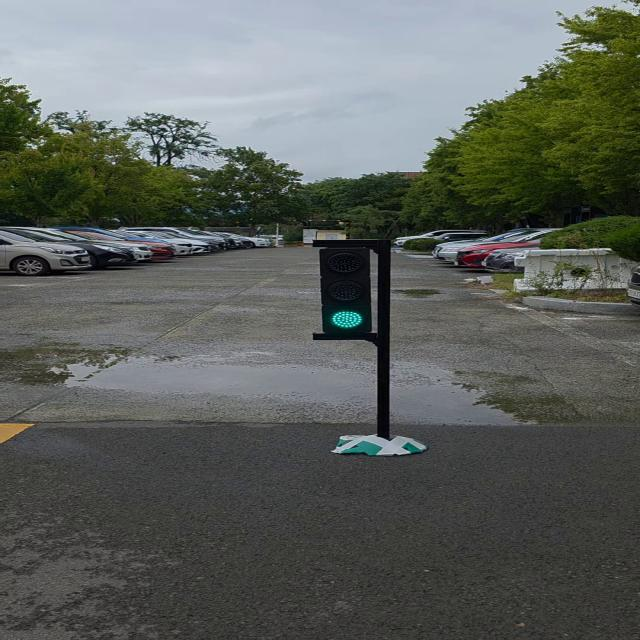green: (320, 240, 385, 338)
